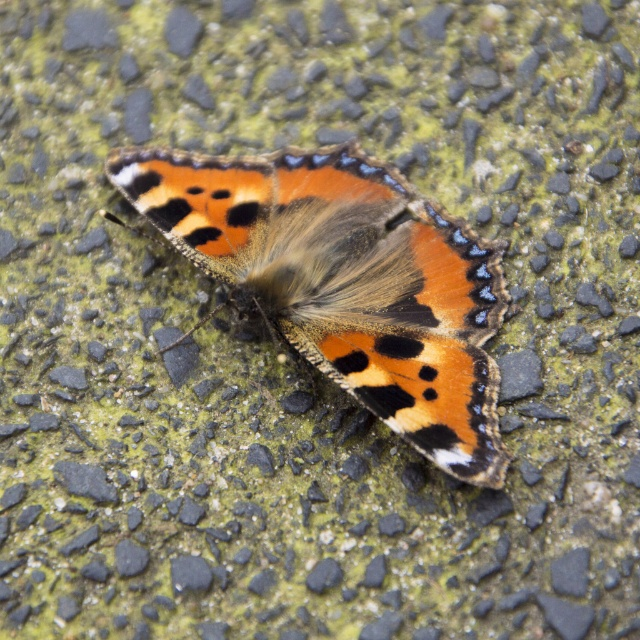Butterfly: (106, 145, 503, 475)
